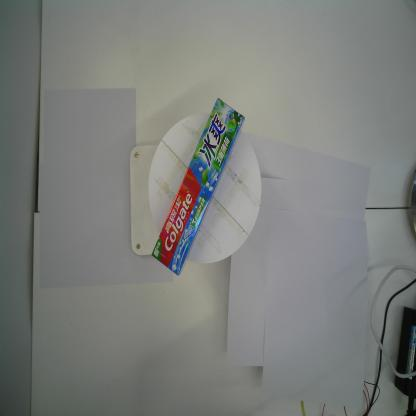Personal Hygiene: (151, 98, 245, 277)
